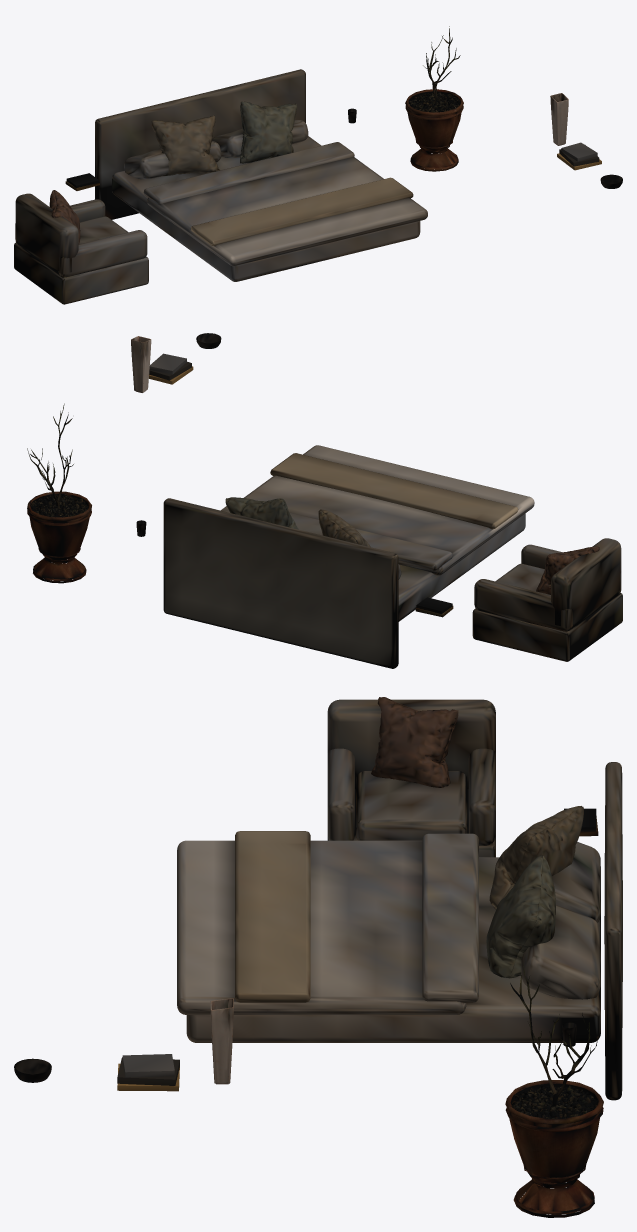
The model's file is decor-guest.glb.
3 renders of one model, top to bottom at view 1: azimuth 30°, elevation 25°; view 2: azimuth 150°, elevation 25°; view 3: azimuth 270°, elevation 25°, orthographic. The views are drawn at different scales.
Visible parts, largest first — view 1: V|decor|ldk|wooden_bowl_01:a.065, V|decor|ldk|wooden_bowl_01:a.066, V|decor|ldk|wooden_bowl_01:a.067, V|decor|ldk|wooden_bowl_01:a.075, V|decor|ldk|wooden_bowl_01:a.072, V|decor|ldk|wooden_bowl_01:a.073, V|decor|ldk|wooden_bowl_01:a.074, V|decor|ldk|wooden_bowl_01:a.070, V|decor|ldk|wooden_bowl_01:a.071; view 2: V|decor|ldk|wooden_bowl_01:a.066, V|decor|ldk|wooden_bowl_01:a.065, V|decor|ldk|wooden_bowl_01:a.067, V|decor|ldk|wooden_bowl_01:a.075, V|decor|ldk|wooden_bowl_01:a.072, V|decor|ldk|wooden_bowl_01:a.073, V|decor|ldk|wooden_bowl_01:a.074, V|decor|ldk|wooden_bowl_01:a.070, V|decor|ldk|wooden_bowl_01:a.071, V|decor|ldk|wooden_bowl_01:a.068; view 3: V|decor|ldk|wooden_bowl_01:a.065, V|decor|ldk|wooden_bowl_01:a.066, V|decor|ldk|wooden_bowl_01:a.067, V|decor|ldk|wooden_bowl_01:a.075, V|decor|ldk|wooden_bowl_01:a.074, V|decor|ldk|wooden_bowl_01:a.072, V|decor|ldk|wooden_bowl_01:a.073, V|decor|ldk|wooden_bowl_01:a.071, V|decor|ldk|wooden_bowl_01:a.068, V|decor|ldk|wooden_bowl_01:a.070.
Part boxes in pixels (x1,y1,x2,y2): V|decor|ldk|wooden_bowl_01:a.065: [112, 120, 427, 281]; V|decor|ldk|wooden_bowl_01:a.066: [14, 69, 305, 304]; V|decor|ldk|wooden_bowl_01:a.067: [151, 115, 413, 245]; V|decor|ldk|wooden_bowl_01:a.075: [405, 26, 463, 171]; V|decor|ldk|wooden_bowl_01:a.072: [240, 101, 296, 163]; V|decor|ldk|wooden_bowl_01:a.073: [550, 93, 568, 145]; V|decor|ldk|wooden_bowl_01:a.074: [49, 190, 80, 244]; V|decor|ldk|wooden_bowl_01:a.070: [66, 149, 599, 187]; V|decor|ldk|wooden_bowl_01:a.071: [561, 142, 597, 161]; V|decor|ldk|wooden_bowl_01:a.066: [163, 498, 622, 668]; V|decor|ldk|wooden_bowl_01:a.065: [220, 445, 534, 621]; V|decor|ldk|wooden_bowl_01:a.067: [270, 453, 518, 547]; V|decor|ldk|wooden_bowl_01:a.075: [27, 403, 91, 583]; V|decor|ldk|wooden_bowl_01:a.072: [225, 497, 298, 529]; V|decor|ldk|wooden_bowl_01:a.073: [131, 336, 151, 392]; V|decor|ldk|wooden_bowl_01:a.074: [536, 546, 599, 594]; V|decor|ldk|wooden_bowl_01:a.070: [149, 361, 452, 613]; V|decor|ldk|wooden_bowl_01:a.071: [149, 353, 186, 374]; V|decor|ldk|wooden_bowl_01:a.068: [136, 333, 221, 536]; V|decor|ldk|wooden_bowl_01:a.065: [177, 833, 600, 1042]; V|decor|ldk|wooden_bowl_01:a.066: [327, 699, 622, 1100]; V|decor|ldk|wooden_bowl_01:a.067: [235, 806, 583, 1002]; V|decor|ldk|wooden_bowl_01:a.075: [505, 964, 603, 1217]; V|decor|ldk|wooden_bowl_01:a.074: [371, 697, 458, 787]; V|decor|ldk|wooden_bowl_01:a.072: [486, 855, 555, 978]; V|decor|ldk|wooden_bowl_01:a.073: [210, 998, 233, 1084]; V|decor|ldk|wooden_bowl_01:a.071: [122, 1054, 174, 1077]; V|decor|ldk|wooden_bowl_01:a.068: [14, 1022, 576, 1082]; V|decor|ldk|wooden_bowl_01:a.070: [117, 808, 596, 1085].
Bounding box in the file's own units: 4.39 × 1.34 × 2.89.
Materials: 12 (3 with a texture image).
